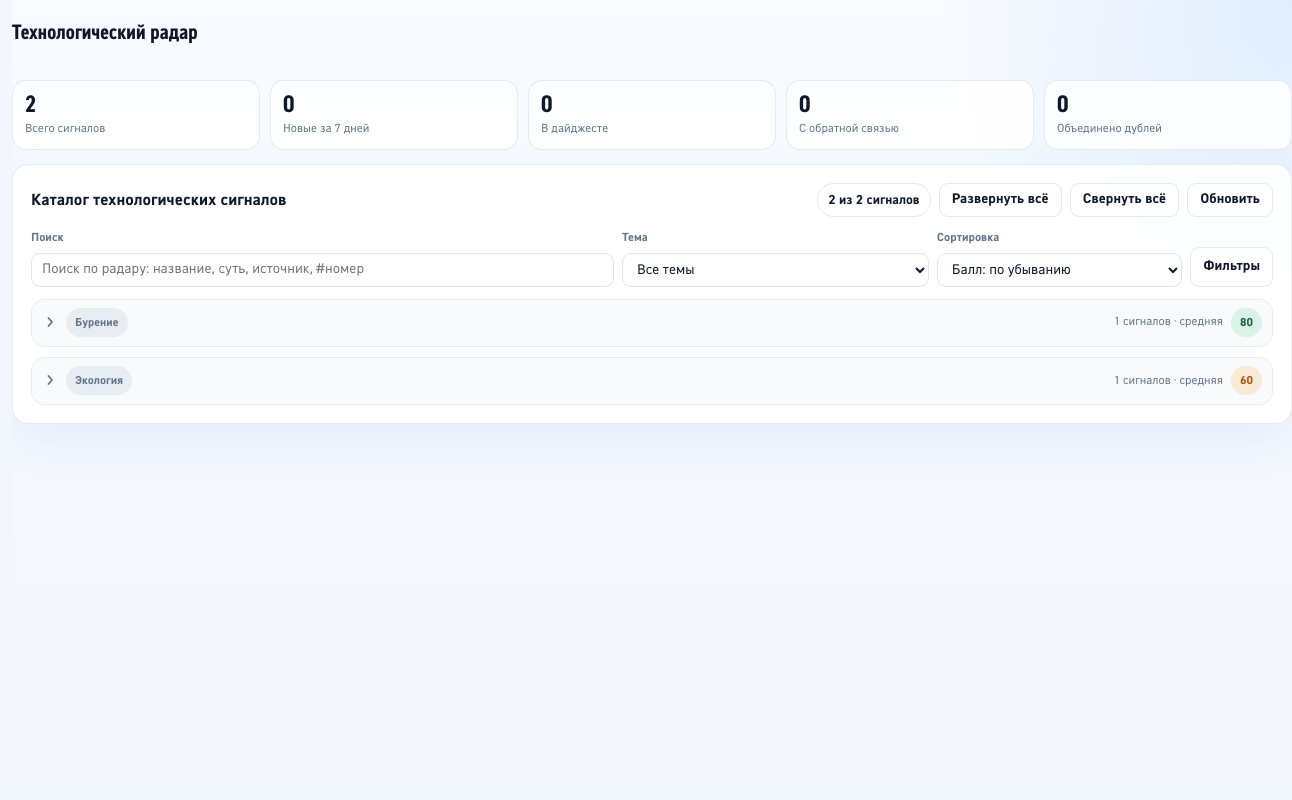
SignalRadarPage › экран для коллег заказчика › сигналы — блоками по темам, как бизнес-сигналы: свёрнуты, раскрываются
Expected: the button with aria-label "Раскрыть группу Бурение" is shown, [32,300,1272,346]
Expected: the button with aria-label "Раскрыть группу Экология" is shown, [32,358,1272,404]
Click the button "Развернуть всё". click: (1000, 200)
box: [939,183,1062,217]
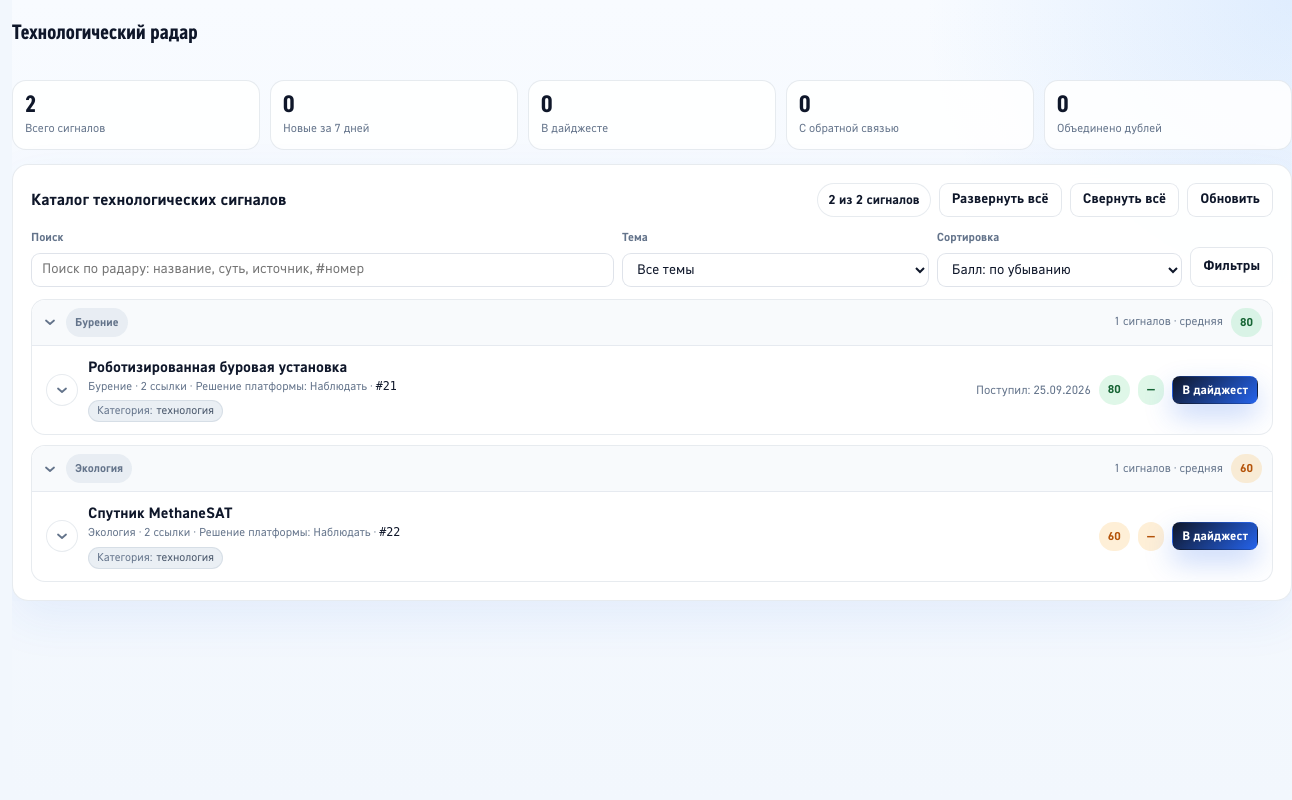
Expected: the link "Роботизированная буровая установка" is shown, [88,358,347,377]
Expected: the text "Спутник MethaneSAT" is shown, [88,504,233,523]
